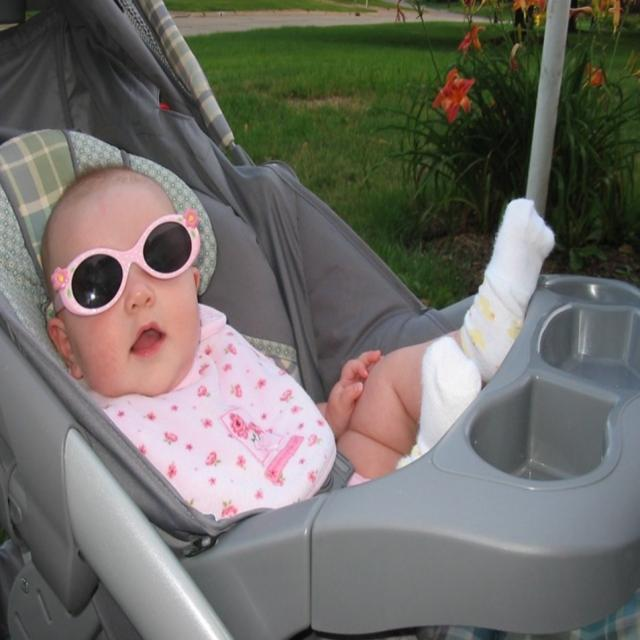Glasses: (42, 208, 220, 326)
